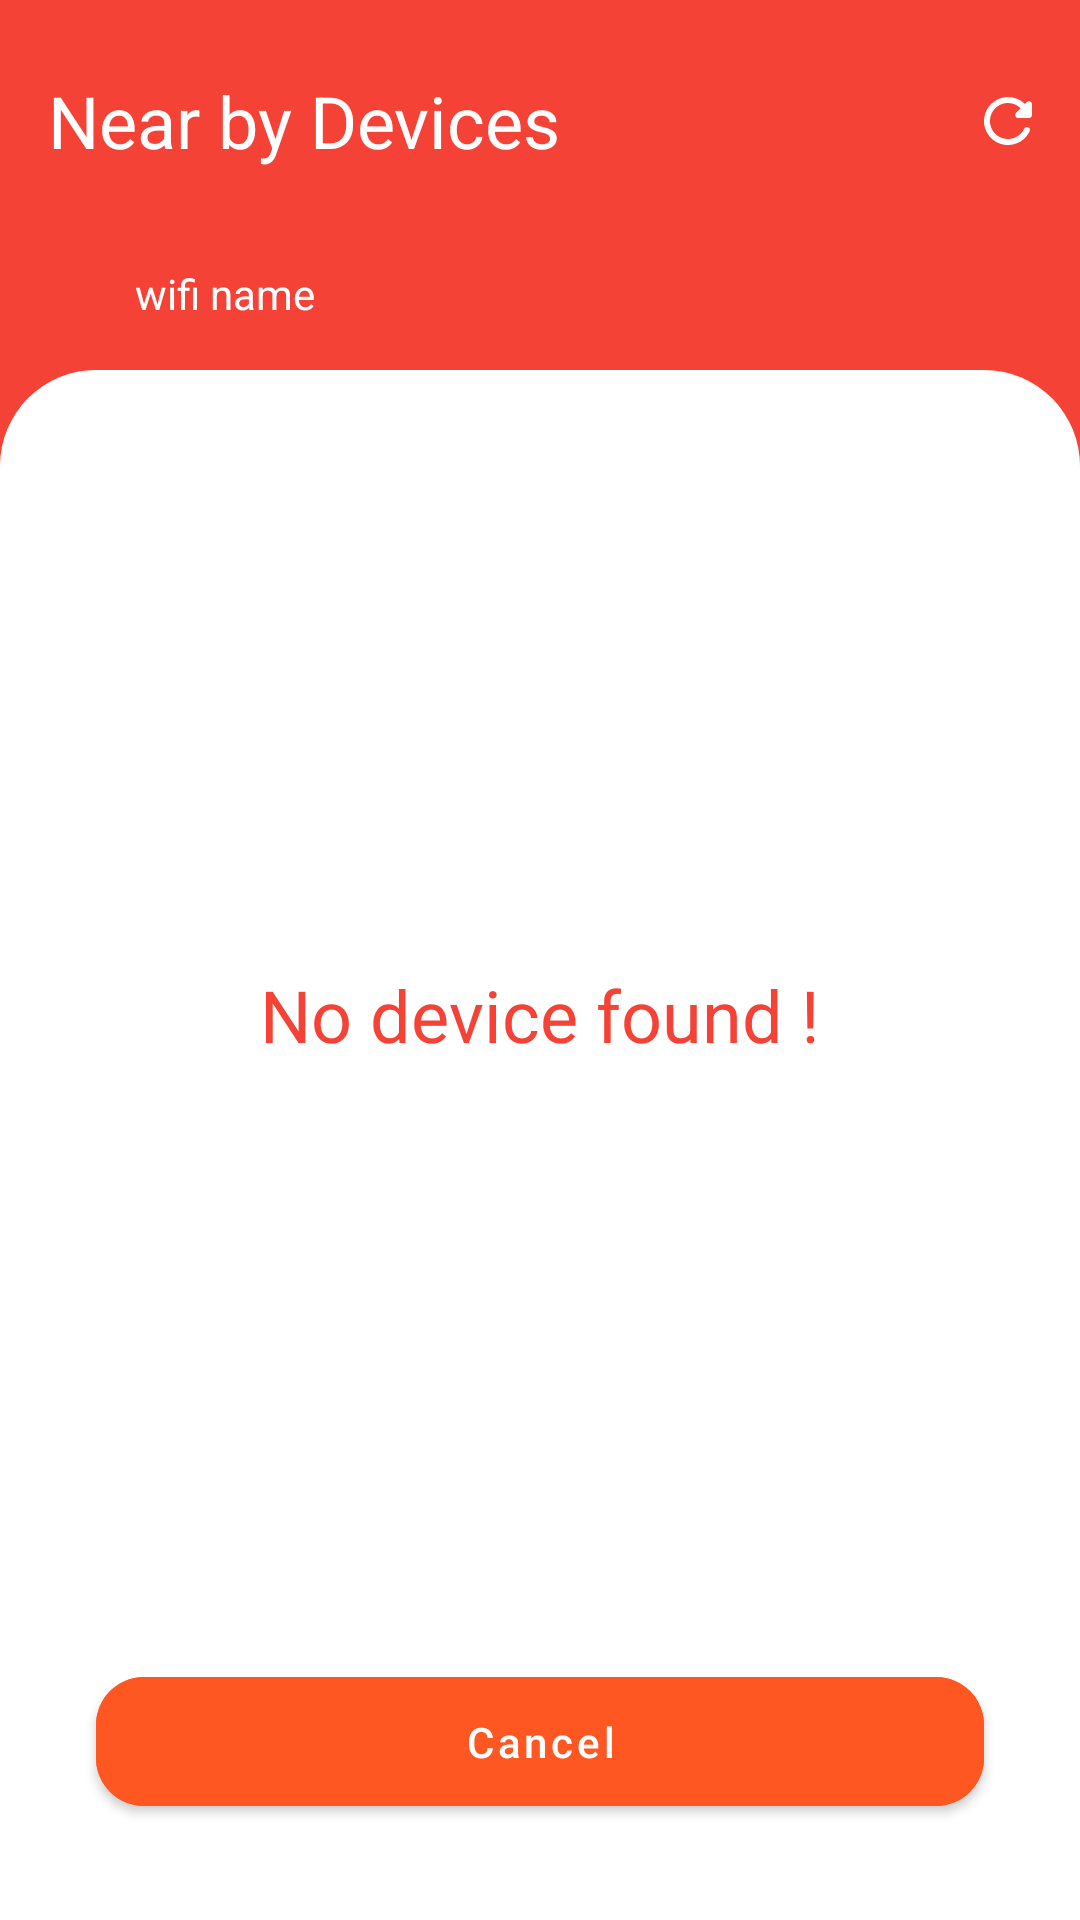

Where icons sit on this 1080x1920 app screen, as bbox=(x1, y1, x2, y2):
refresh: bbox=(984, 97, 1032, 145)
